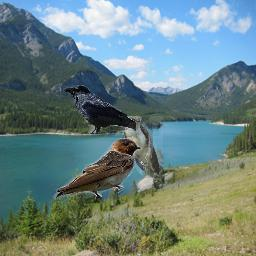Crow: (62, 85, 136, 134)
Swallow: (52, 137, 142, 202), (122, 116, 163, 178)
